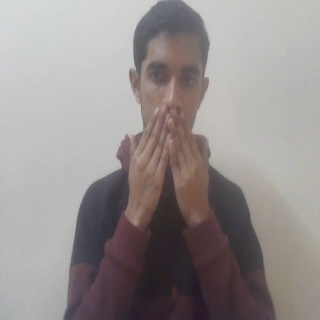Thank You: (122, 107, 220, 230)
